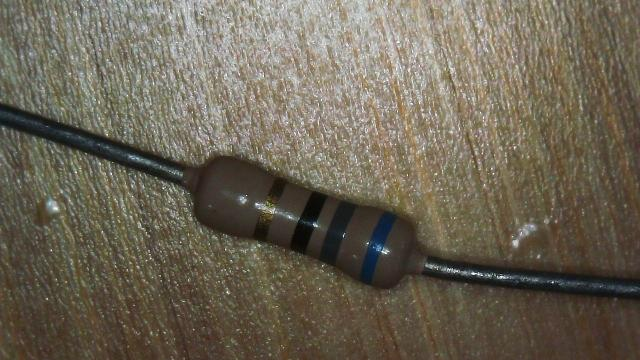black: (290, 192, 327, 254)
blue: (358, 210, 396, 285)
gold: (253, 177, 287, 241)
grey: (320, 200, 357, 266)
resistor: (159, 127, 449, 322)
